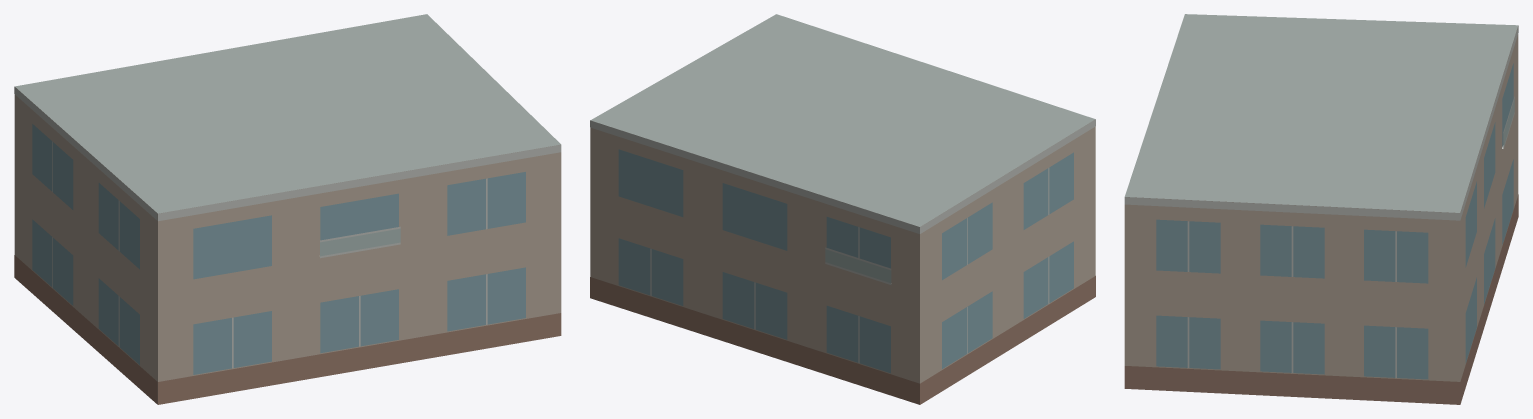
Rendered from survey-upis-32804594.glb.
3 renders of one model, left to right at view 1: azimuth 30°, elevation 25°; view 2: azimuth 150°, elevation 25°; view 3: azimuth 270°, elevation 25°, orthographic. The views are drawn at different scales.
Parts seen in each view (by area): view 1: survey-upis-32804594.tmp; view 2: survey-upis-32804594.tmp; view 3: survey-upis-32804594.tmp.
Boxes of the visible parts, left/top/right/bottom form: survey-upis-32804594.tmp: left=14, top=14, right=561, bottom=404; survey-upis-32804594.tmp: left=590, top=14, right=1095, bottom=404; survey-upis-32804594.tmp: left=1124, top=14, right=1518, bottom=404.
Size of the model in its own units: 13.58 by 6.1 by 11.36.
